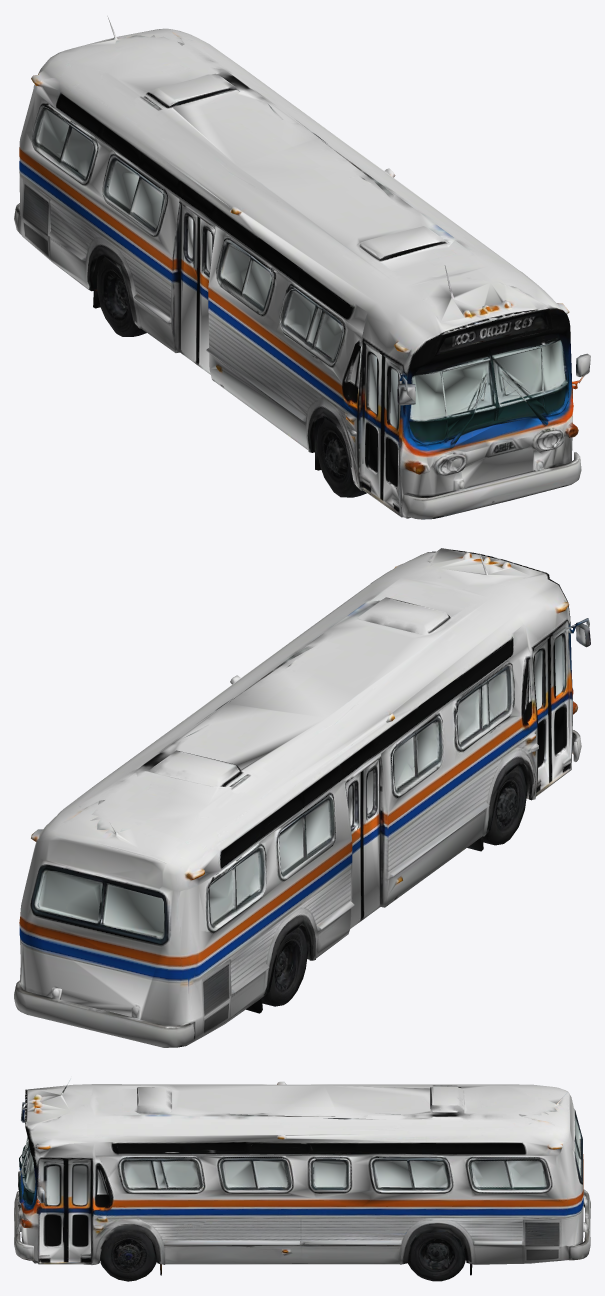
Rendered from city_bus.glb.
The picture shows the model from 3 angles, top to bottom: view 1: azimuth 30°, elevation 25°; view 2: azimuth 150°, elevation 25°; view 3: azimuth 270°, elevation 25°; orthographic projection. The views are drawn at different scales.
Visible parts, largest first — view 1: node_0; view 2: node_0; view 3: node_0.
Boxes of the visible parts, <box> form: node_0: <box>14,16,590,519</box>; node_0: <box>14,548,590,1047</box>; node_0: <box>14,1078,590,1281</box>.
Bounding box in the file's own units: 0.3273 × 0.3776 × 1.15.
Materials: 1 (1 with a texture image).
